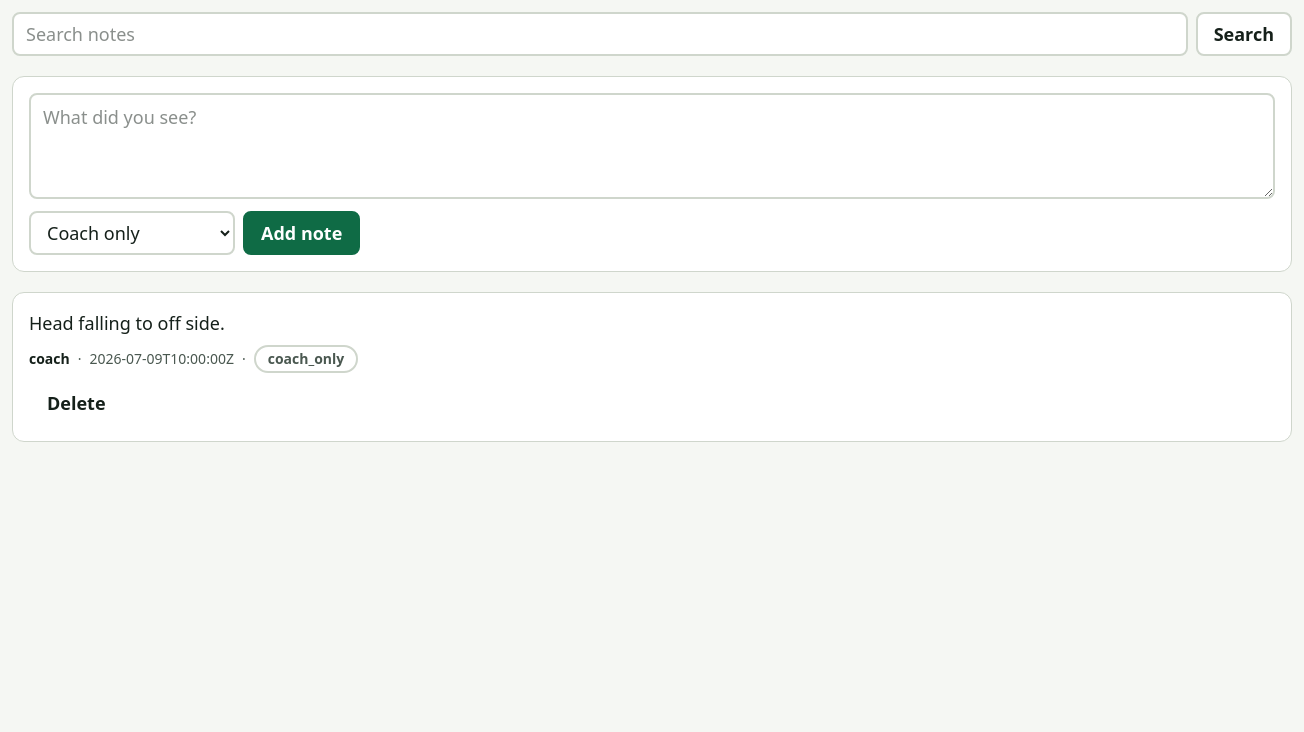
Test case: NotesPanel › deletes a note and refreshes
What coordinates should you click on to do the following:
click the button "Delete"
I would click on:
 (76, 403)
Its box is [29,381,124,425].
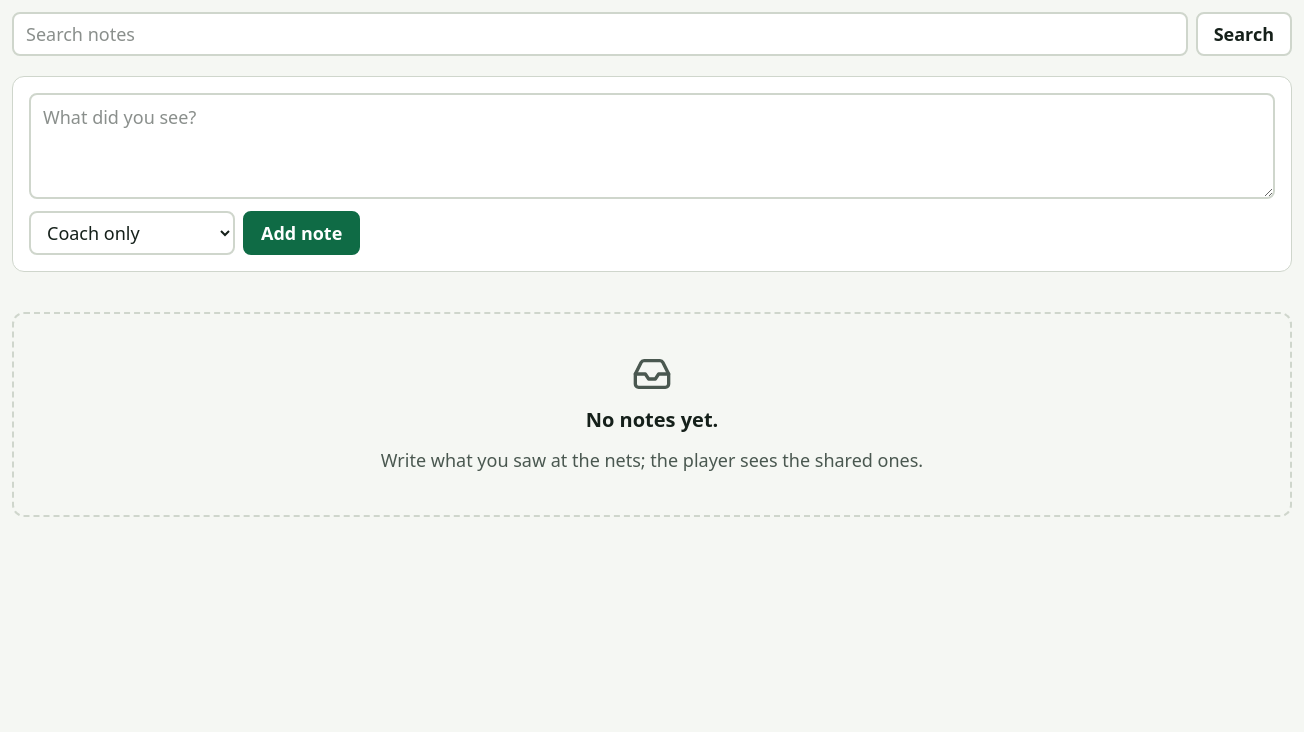
expect the element with test id "notes-empty" is shown: met, box [12,312,1292,517]
